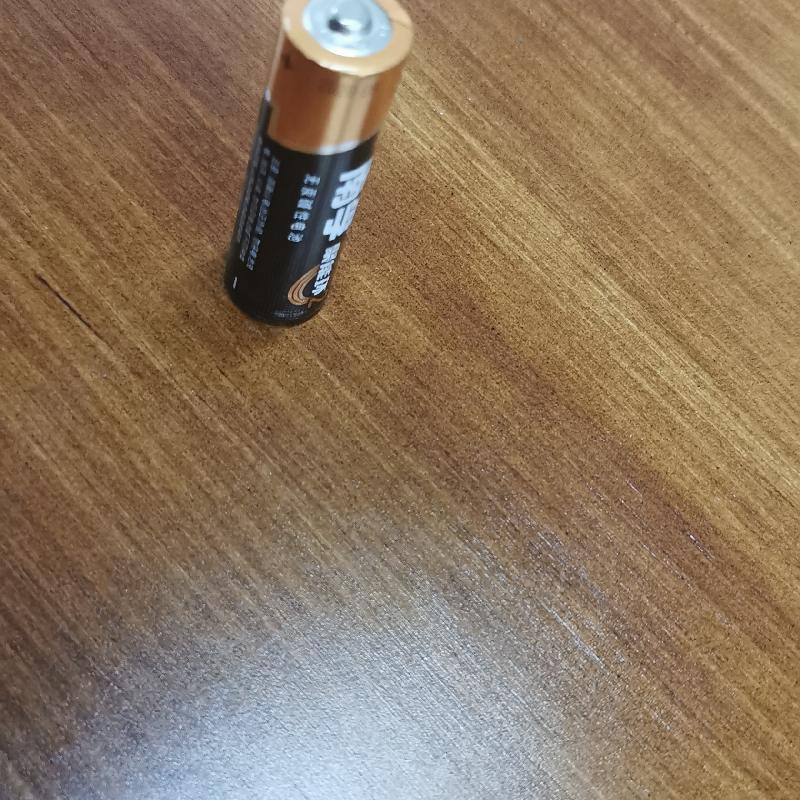battery: (199, 1, 417, 334)
